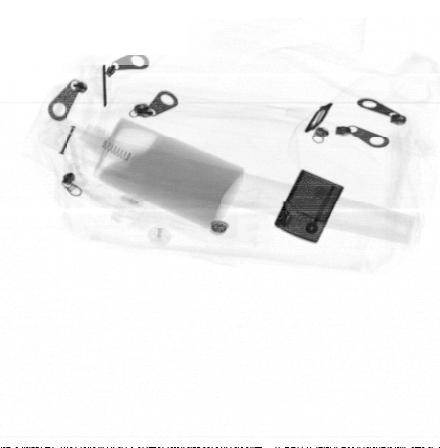Lighter: (274, 169, 345, 243)
